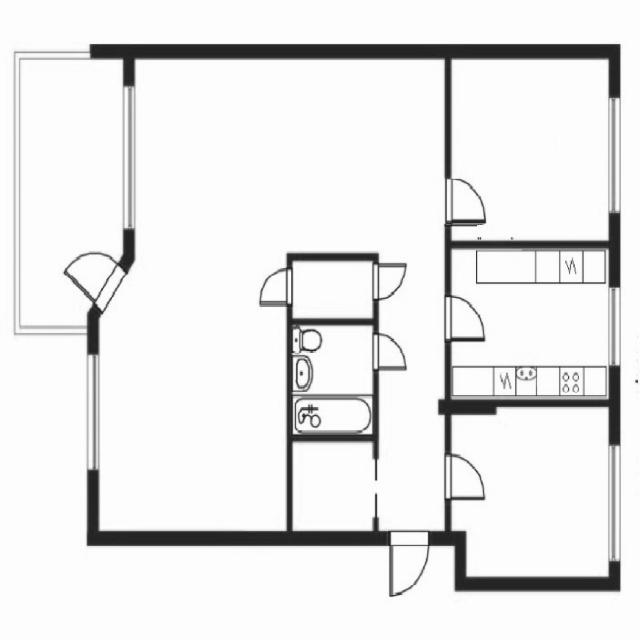door: (62, 247, 122, 320), (383, 529, 435, 599), (441, 170, 491, 227), (440, 451, 492, 504), (442, 292, 489, 343), (367, 256, 411, 304), (250, 264, 296, 309), (371, 328, 411, 372)
window: (115, 74, 144, 238), (602, 92, 628, 223), (602, 438, 627, 572), (81, 344, 105, 479), (606, 280, 626, 374)
zone: (133, 46, 455, 534), (10, 43, 131, 334), (448, 51, 616, 244), (447, 402, 618, 586), (447, 245, 615, 402), (288, 319, 376, 435), (288, 436, 378, 537), (289, 257, 376, 322), (290, 395, 375, 437)
